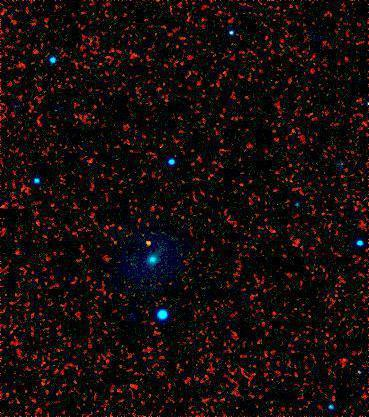star: (132, 226, 162, 256)
